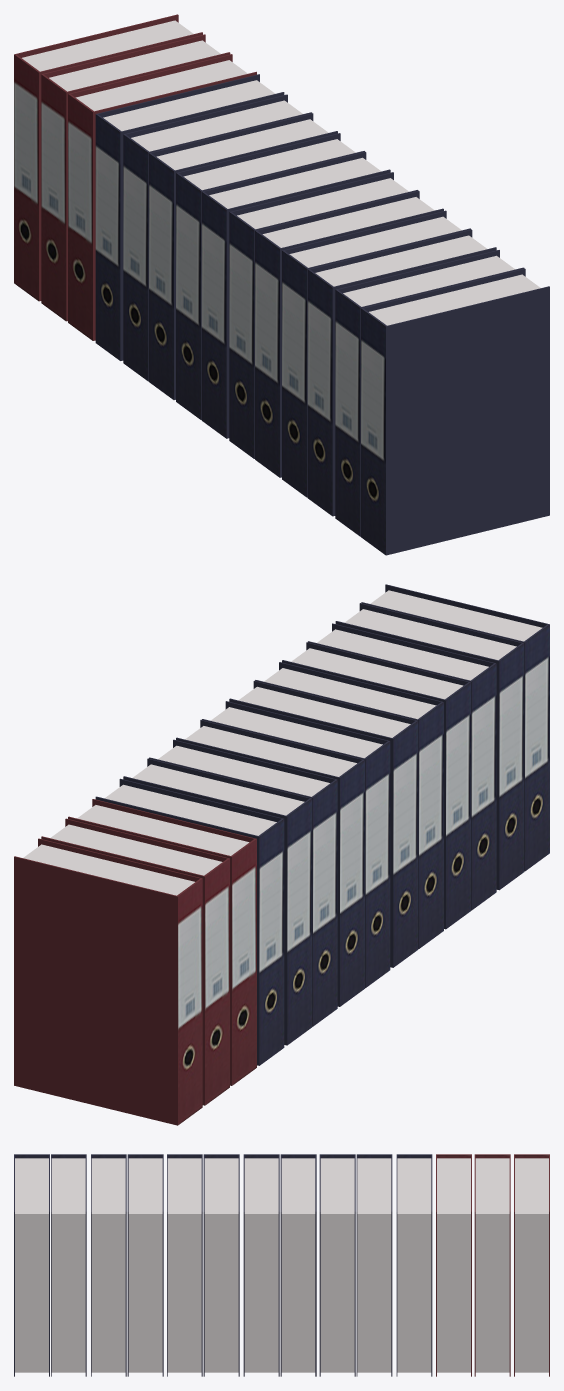
File: Files 3.FBX
The picture shows the model from 3 angles, top to bottom: view 1: azimuth 30°, elevation 25°; view 2: azimuth 150°, elevation 25°; view 3: azimuth 270°, elevation 25°; orthographic projection. The views are drawn at different scales.
Parts seen in each view (by area): view 1: Files 3; view 2: Files 3; view 3: Files 3.
Part boxes in pixels (box(x1,y1,x2,y2)): Files 3: box(14, 14, 549, 555); Files 3: box(14, 584, 549, 1125); Files 3: box(14, 1154, 549, 1376).
Bounding box in the file's own units: 181 × 711 × 242.
1 material, 1 textured.
